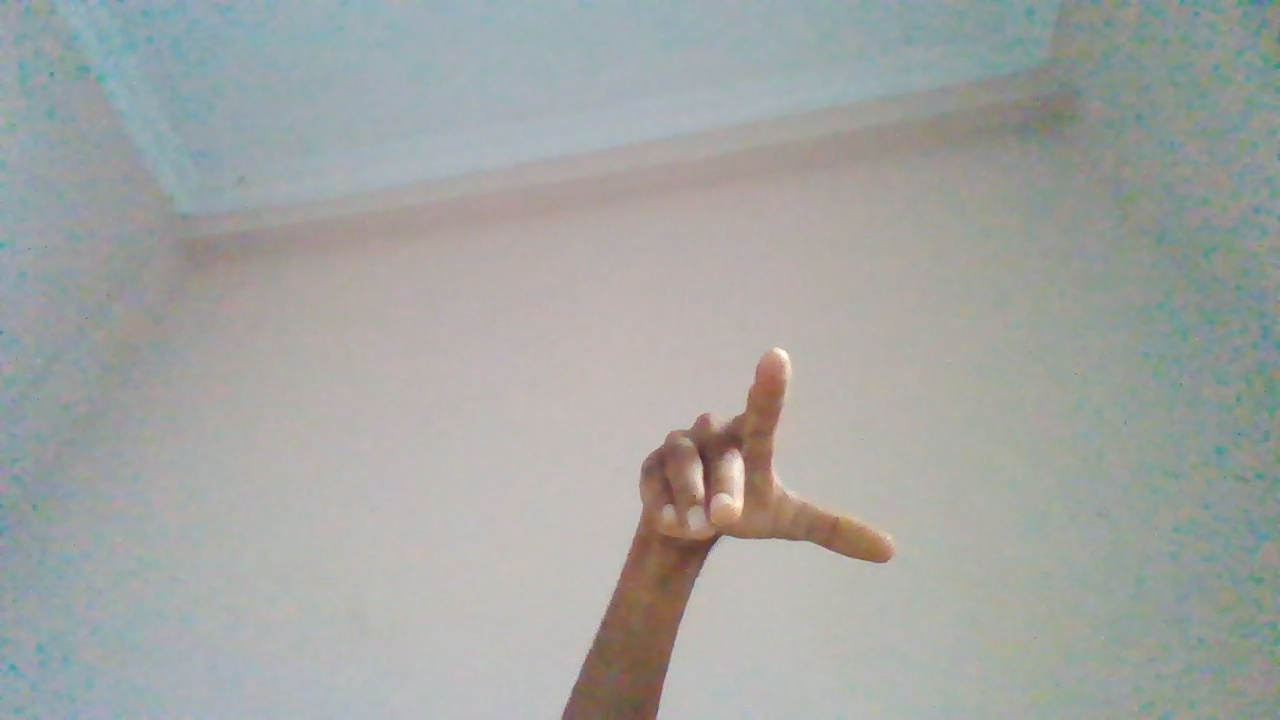ke: (632, 345, 895, 719)
